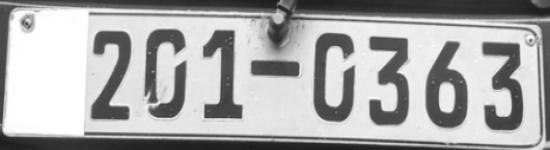-: (245, 54, 305, 87)
0: (305, 26, 361, 129), (142, 24, 195, 125)
1: (196, 24, 249, 125)
2: (88, 25, 142, 127)
3: (359, 27, 417, 136), (473, 29, 529, 140)
6: (419, 31, 473, 135)
